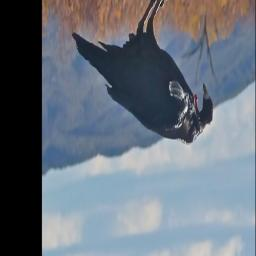Crow: (71, 0, 215, 147)
